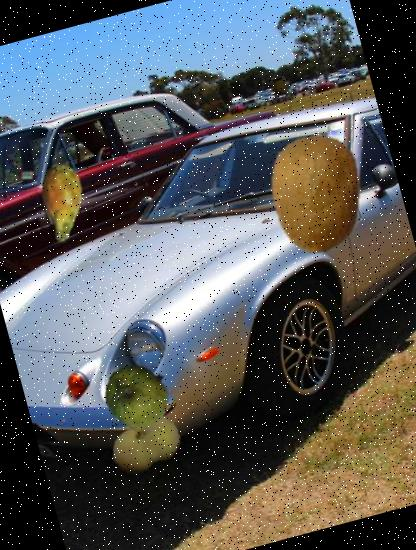Cactus: (13, 156, 110, 252)
Kiwi: (244, 120, 390, 266)
Limes: (97, 355, 178, 436)
Peach: (101, 400, 188, 487)
